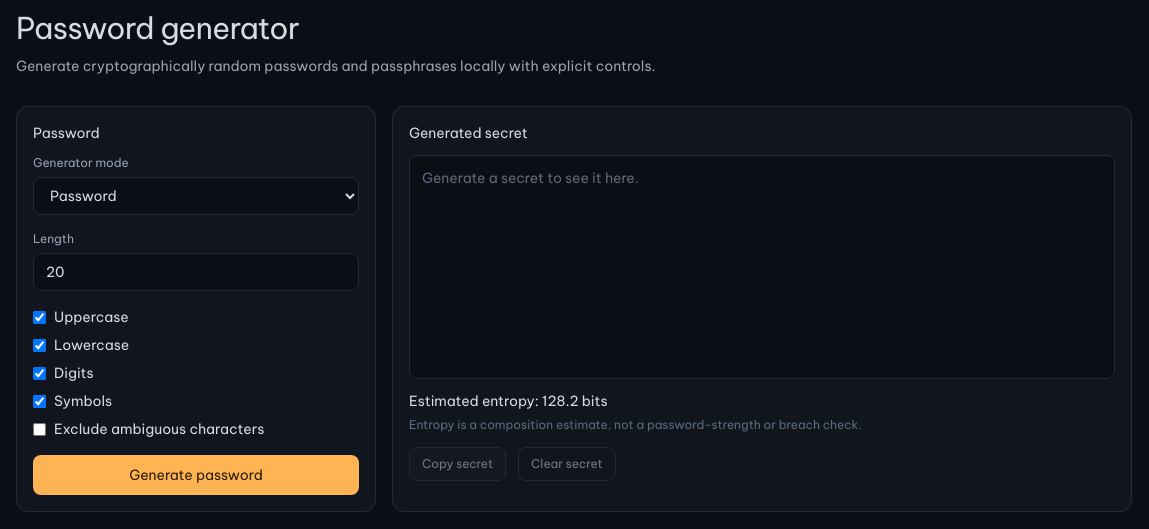
Password Generator tool › generates a password with selected classes and entropy estimate
The image size is (1149, 529).
Replace the text in the number field labelled "Length" with "24" at (196, 272), box top-left (33, 253), bottom-right (359, 291)
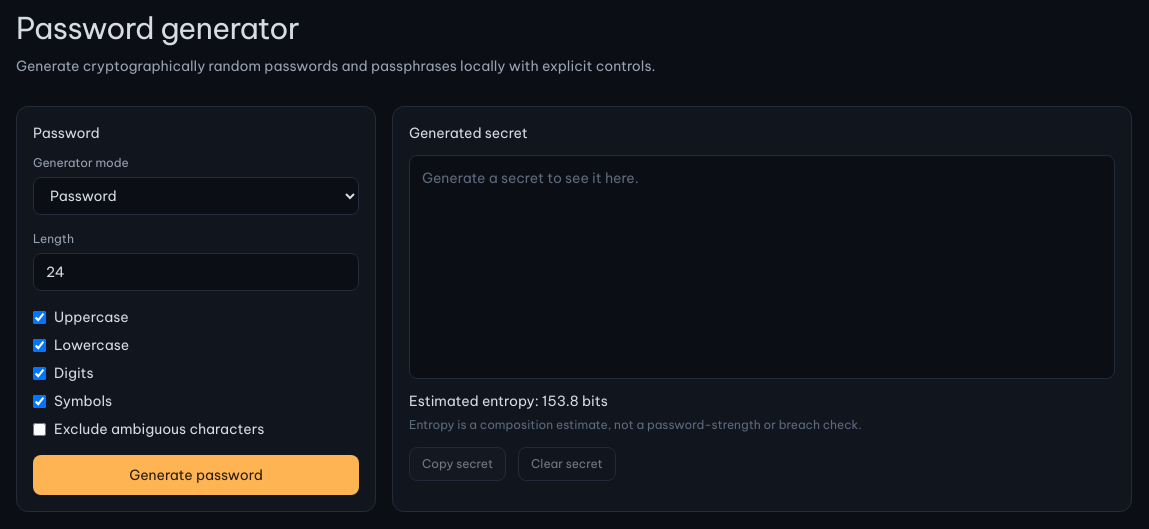
Click the button "Generate password" at (196, 475), box top-left (33, 455), bottom-right (359, 495)
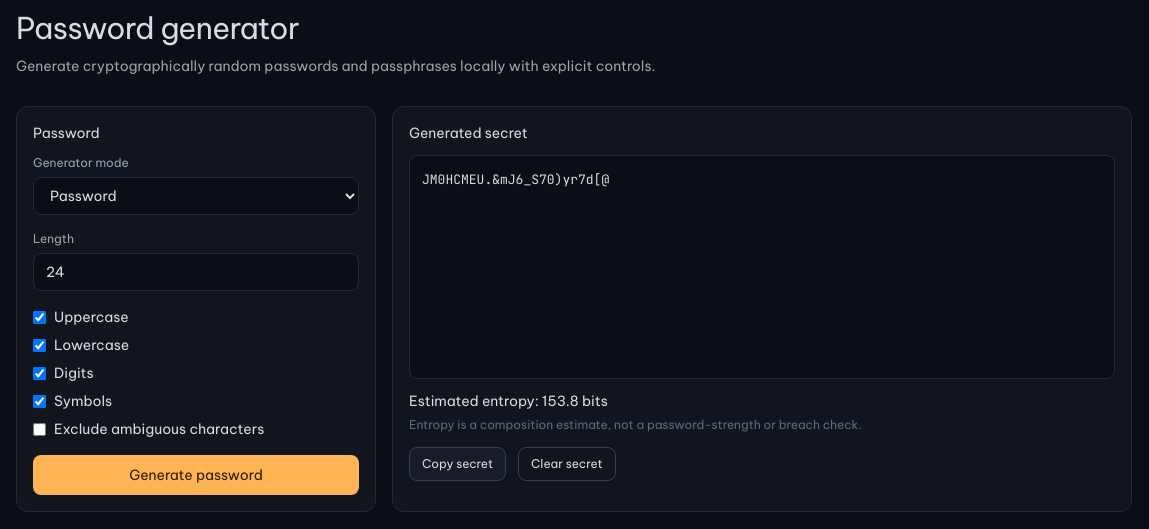
Expected: the text "Estimated entropy: 153.8 bits" is shown, top-left (409, 392), bottom-right (608, 410)
Expected: the button "Copy secret" is enabled, top-left (409, 447), bottom-right (506, 481)
Expected: the button "Clear secret" is enabled, top-left (518, 447), bottom-right (616, 481)
